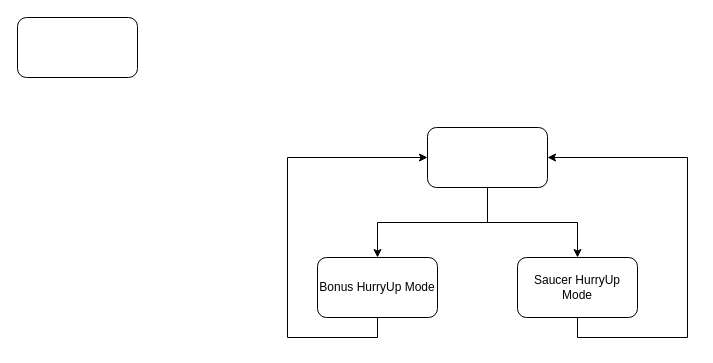
This 713x363 diagram has some shape labels left out. Here are the shapes that lost their labels. From the top down, the box of each, then its label:
(16, 16, 138, 78): Attract Mode
(426, 126, 548, 188): Base Scoring Mode
